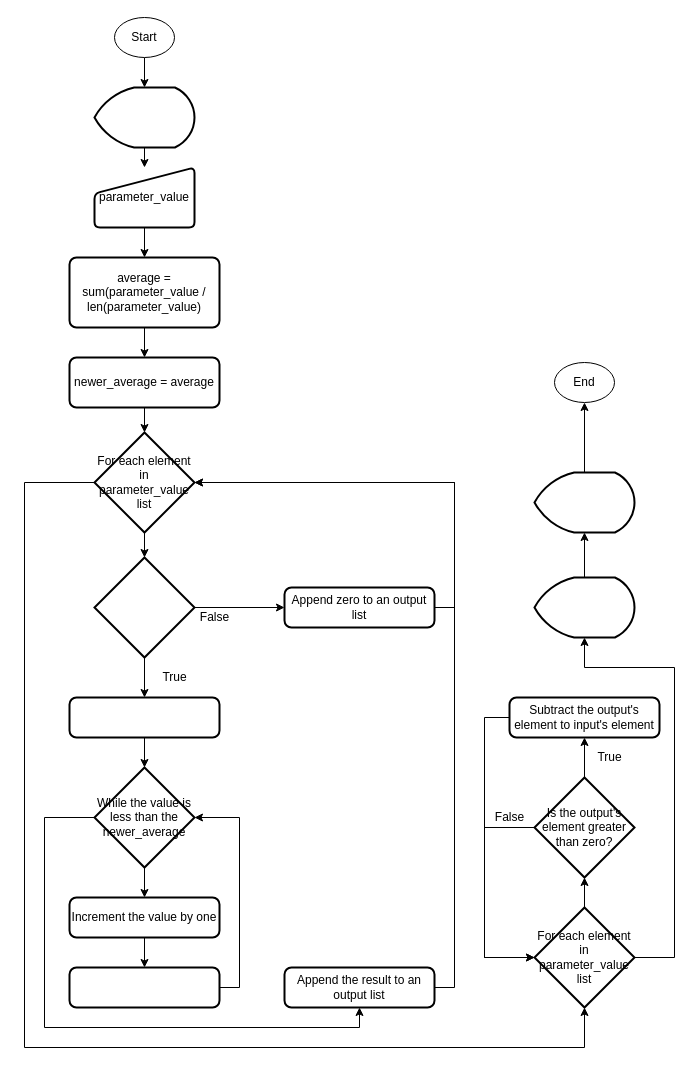
Some shapes in this 700 by 1073 pixel diagram are drawn without their labels. The shapes that lost their labels are listed below. From the top down, each one's centre as x and y in pixels, then its label:
At (x=144, y=117): "Enter net worth for Alice, Bob, and Charlie".
At (x=584, y=502): "output".
At (x=144, y=607): "Is the element less than or equal to the average?".
At (x=584, y=607): "Billions needed for happiness".
At (x=144, y=717): "Hold a temporary location for the element".
At (x=144, y=987): "Calculate newer average".
